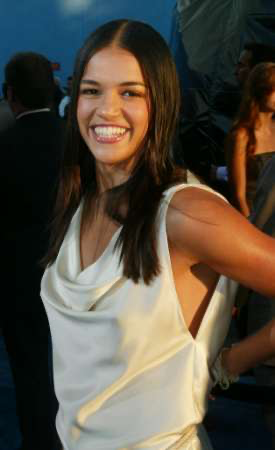Face: (78, 52, 155, 167)
